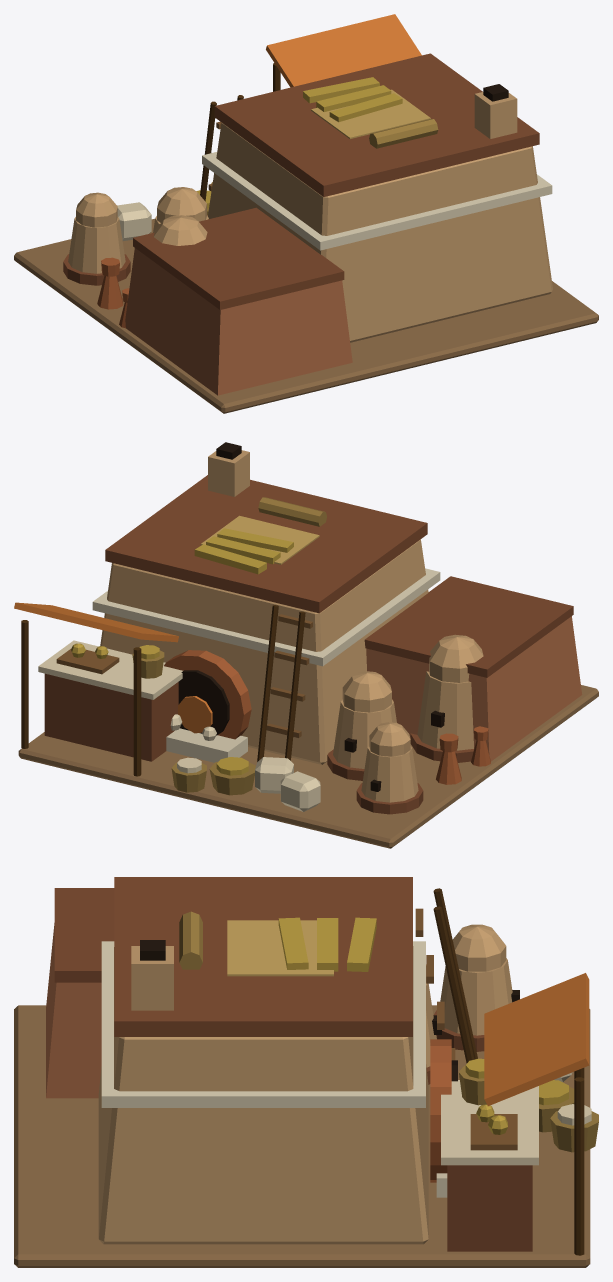
The model's file is ration_house.glb.
The picture shows the model from 3 angles, top to bottom: view 1: azimuth 30°, elevation 25°; view 2: azimuth 150°, elevation 25°; view 3: azimuth 270°, elevation 25°; orthographic projection. The views are drawn at different scales.
Visible parts, largest first — view 1: ration_house_mud_tan, ration_house_mud_dark, ration_house_mud_terra, ration_house_dirt_apron, ration_house_cloth_orange, ration_house_stone_pale, ration_house_crop_amber, ration_house_thatch_mat, ration_house_pottery, ration_house_thatch_dark, ration_house_linen_pale, ration_house_wood_dark; view 2: ration_house_mud_dark, ration_house_mud_tan, ration_house_dirt_apron, ration_house_mud_terra, ration_house_stone_pale, ration_house_linen_pale, ration_house_pottery, ration_house_wood_dark, ration_house_crop_amber, ration_house_thatch_dark, ration_house_cloth_orange, ration_house_door_dark (+2 smaller); view 3: ration_house_mud_tan, ration_house_mud_dark, ration_house_dirt_apron, ration_house_cloth_orange, ration_house_stone_pale, ration_house_mud_terra, ration_house_linen_pale, ration_house_crop_amber, ration_house_wood_dark, ration_house_thatch_mat, ration_house_thatch_dark, ration_house_pottery (+2 smaller).
Boxes of the visible parts, <box> form: ration_house_mud_tan: <box>68,92,552,342</box>; ration_house_mud_dark: <box>63,53,539,309</box>; ration_house_mud_terra: <box>125,248,352,395</box>; ration_house_dirt_apron: <box>14,218,598,413</box>; ration_house_cloth_orange: <box>266,14,421,87</box>; ration_house_stone_pale: <box>202,152,552,250</box>; ration_house_crop_amber: <box>196,77,402,208</box>; ration_house_thatch_mat: <box>311,89,430,138</box>; ration_house_pottery: <box>97,257,129,328</box>; ration_house_thatch_dark: <box>207,119,438,214</box>; ration_house_linen_pale: <box>117,202,151,240</box>; ration_house_wood_dark: <box>200,63,280,201</box>; ration_house_mud_dark: <box>44,475,573,814</box>; ration_house_mud_tan: <box>100,450,483,802</box>; ration_house_dirt_apron: <box>18,685,598,848</box>; ration_house_mud_terra: <box>366,616,582,761</box>; ration_house_stone_pale: <box>92,568,440,762</box>; ration_house_linen_pale: <box>38,640,320,811</box>; ration_house_pottery: <box>164,650,490,784</box>; ration_house_wood_dark: <box>21,605,305,776</box>; ration_house_crop_amber: <box>71,528,293,775</box>; ration_house_thatch_dark: <box>132,497,326,795</box>; ration_house_cloth_orange: <box>14,602,212,733</box>; ration_house_door_dark: <box>178,442,444,791</box>; ration_house_mud_tan: <box>98,924,512,1244</box>; ration_house_mud_dark: <box>54,877,532,1251</box>; ration_house_dirt_apron: <box>14,1005,590,1267</box>; ration_house_cloth_orange: <box>484,973,589,1106</box>; ration_house_stone_pale: <box>101,941,447,1197</box>; ration_house_mud_terra: <box>46,923,101,1098</box>; ration_house_linen_pale: <box>441,1072,591,1165</box>; ration_house_crop_amber: <box>278,917,568,1134</box>; ration_house_wood_dark: <box>433,888,584,1255</box>; ration_house_thatch_mat: <box>227,920,333,976</box>; ration_house_thatch_dark: <box>179,911,598,1152</box>; ration_house_pottery: <box>430,1039,451,1182</box>.
Size of the model in its own units: 2.83 by 1.49 by 2.74.
